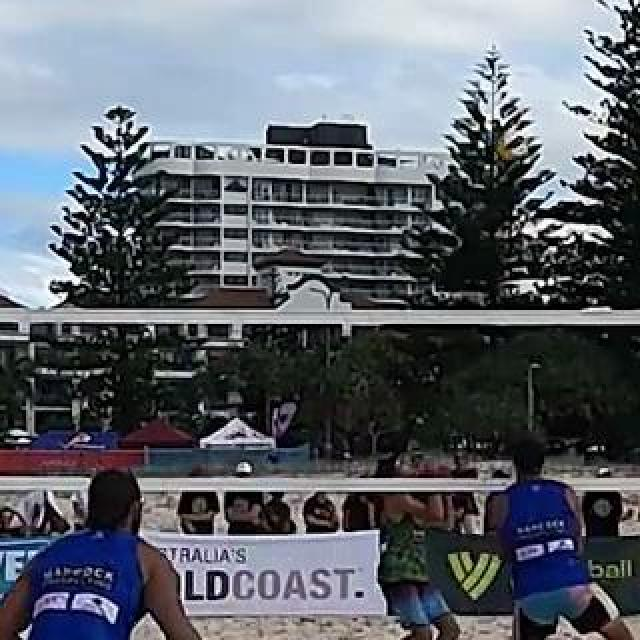volleyball: (497, 131, 529, 163)
